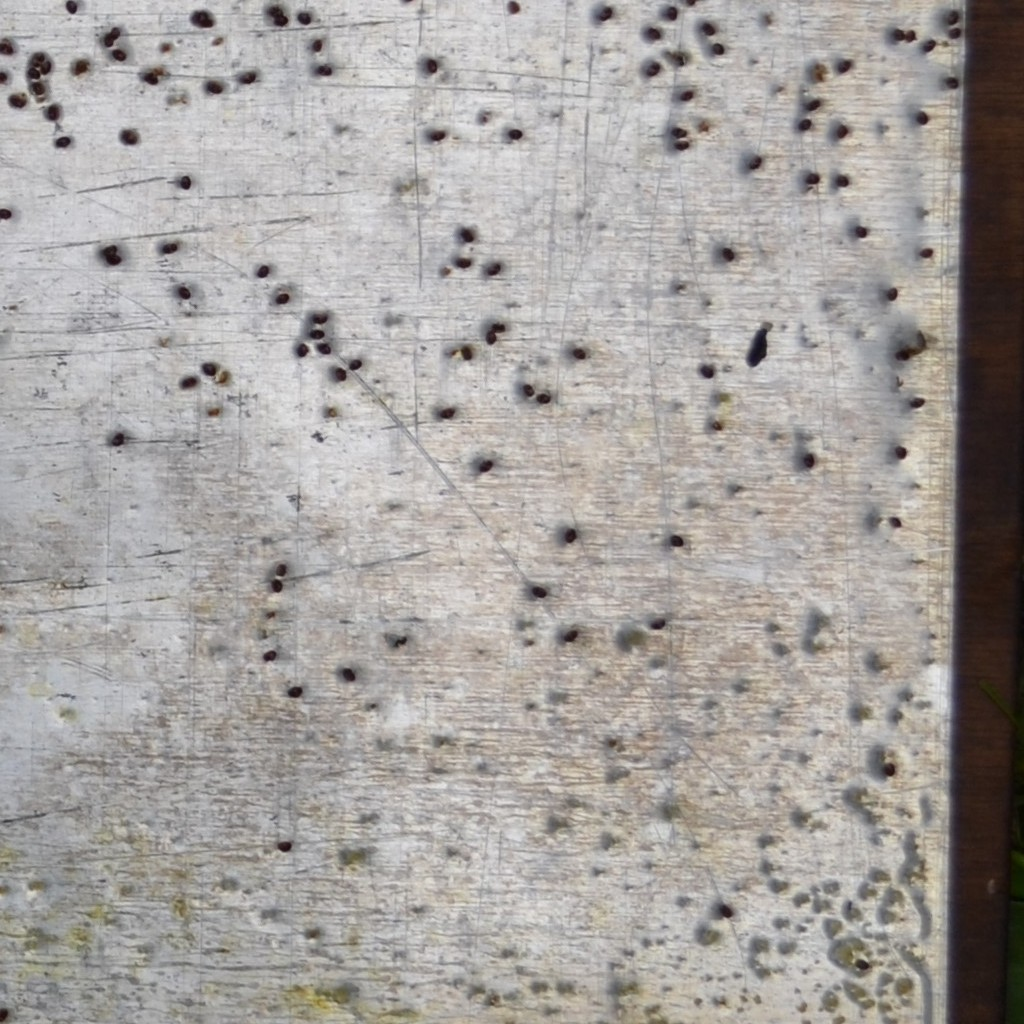varroa: (187, 6, 213, 31), (176, 372, 198, 395), (6, 89, 27, 112), (483, 258, 504, 280), (436, 402, 458, 423), (239, 67, 258, 91), (801, 448, 818, 473), (339, 663, 358, 685), (454, 250, 473, 272), (678, 84, 698, 104), (176, 282, 194, 304), (481, 325, 498, 348), (206, 76, 223, 99), (884, 280, 900, 304), (561, 526, 581, 545), (118, 124, 137, 144), (273, 288, 291, 309), (851, 219, 868, 241), (202, 357, 219, 379), (347, 356, 366, 375), (913, 108, 933, 126), (649, 615, 667, 635), (534, 385, 552, 405), (426, 125, 446, 143), (179, 168, 194, 192), (107, 430, 125, 450), (295, 8, 312, 29), (834, 119, 850, 141), (330, 362, 346, 384), (255, 259, 269, 284), (801, 169, 820, 187), (645, 22, 663, 41), (529, 583, 548, 601), (721, 244, 738, 264), (459, 341, 476, 361), (51, 135, 71, 152), (718, 901, 735, 921), (106, 250, 121, 272), (803, 95, 821, 113), (285, 683, 303, 701), (276, 837, 294, 855), (561, 625, 578, 644), (476, 457, 495, 474), (314, 63, 333, 80), (271, 12, 290, 29), (160, 240, 179, 257), (698, 361, 714, 381), (671, 138, 692, 153), (293, 339, 308, 360), (891, 442, 909, 459), (836, 56, 854, 73), (262, 648, 280, 665), (101, 241, 118, 259), (922, 35, 938, 54), (273, 559, 289, 578), (458, 224, 474, 243), (668, 125, 689, 139), (507, 124, 524, 141), (316, 340, 333, 357), (797, 118, 815, 134), (425, 55, 441, 73), (308, 325, 326, 341), (853, 956, 871, 972), (311, 310, 330, 325), (943, 74, 959, 91), (895, 346, 911, 363), (701, 20, 717, 37), (269, 576, 285, 593), (571, 344, 587, 361), (29, 79, 45, 96), (644, 61, 662, 76), (835, 173, 849, 192), (669, 533, 685, 549), (890, 511, 905, 528), (945, 8, 959, 26), (520, 379, 534, 397), (746, 155, 765, 168), (882, 759, 895, 778), (491, 319, 506, 335), (905, 28, 919, 45), (309, 37, 323, 54), (666, 3, 678, 22), (710, 40, 725, 55), (919, 245, 935, 259), (910, 396, 926, 410), (142, 69, 156, 85), (110, 48, 126, 62), (26, 66, 42, 80), (0, 207, 13, 224), (891, 28, 906, 42), (0, 42, 15, 56), (266, 5, 285, 16), (102, 35, 116, 49), (109, 24, 121, 40), (948, 26, 962, 39), (65, 1, 79, 14), (0, 68, 10, 86), (40, 59, 51, 75), (46, 107, 56, 121), (34, 52, 45, 61)
